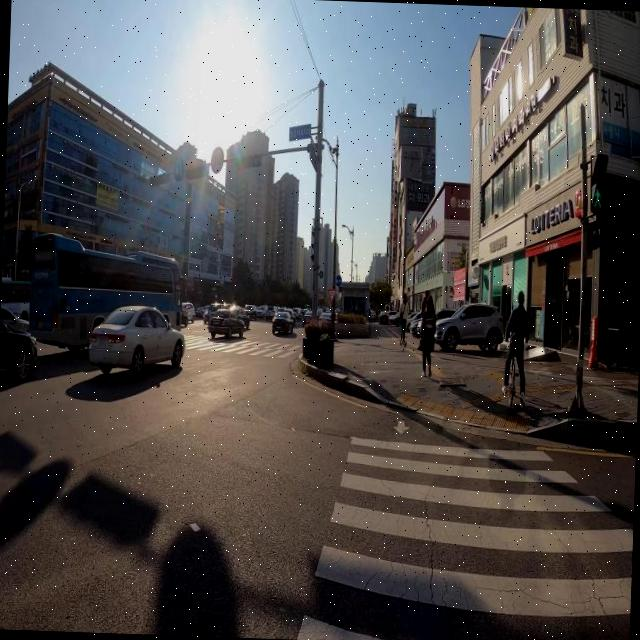crosswalk: (298, 415, 633, 640), (142, 330, 307, 361)
